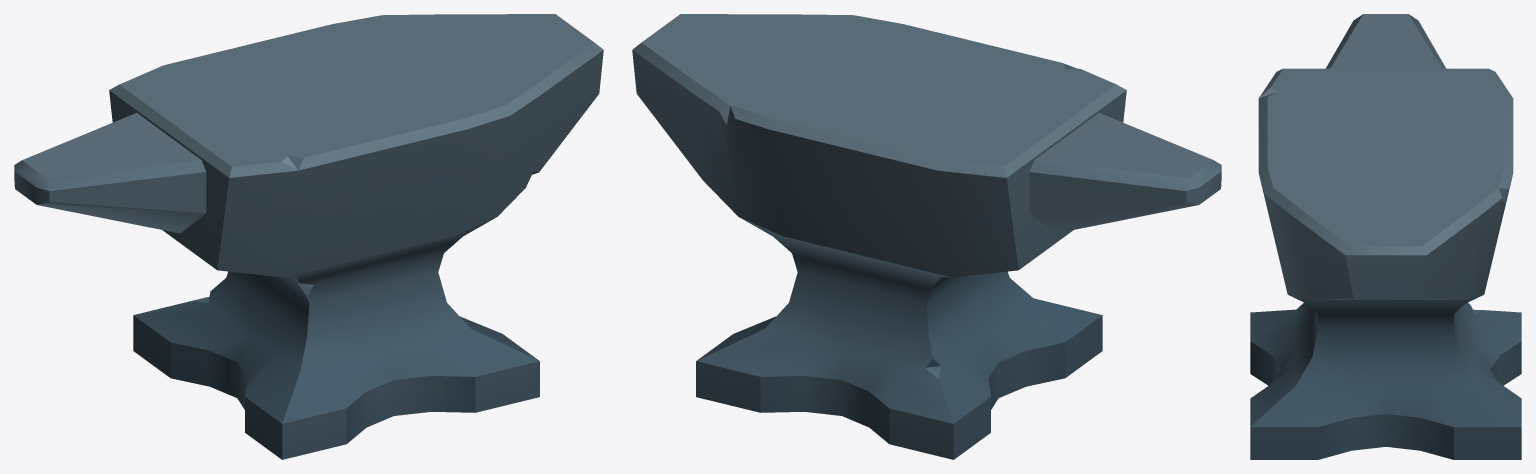
File: anvil.obj
The picture shows the model from 3 angles, left to right: view 1: azimuth 30°, elevation 25°; view 2: azimuth 150°, elevation 25°; view 3: azimuth 270°, elevation 25°; orthographic projection. The views are drawn at different scales.
Visible parts, largest first — view 1: anvil; view 2: anvil; view 3: anvil.
Part boxes in pixels (left/top/right/bottom): anvil: left=14, top=14, right=603, bottom=459; anvil: left=632, top=14, right=1221, bottom=459; anvil: left=1250, top=14, right=1521, bottom=459.
Bounding box in the file's own units: 1.62 × 0.8 × 0.75.
Materials: 1 (1 with a texture image).
